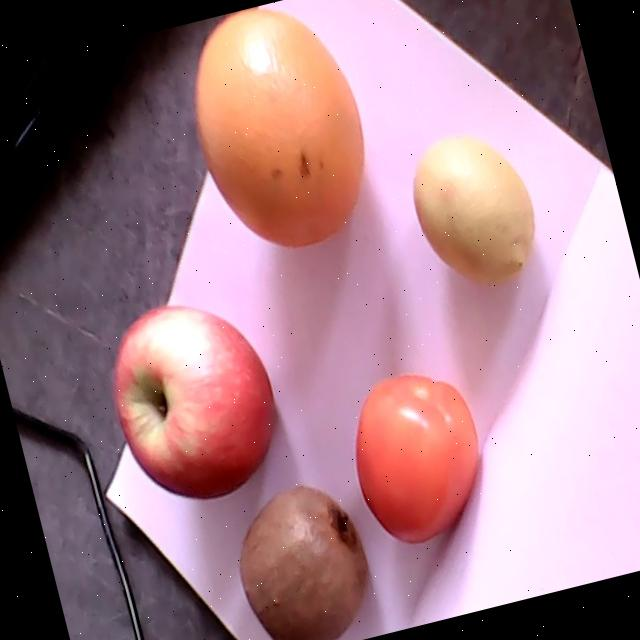apple: (111, 305, 275, 500)
kiwi: (239, 486, 368, 640)
lemon: (413, 139, 533, 284)
orange: (194, 8, 364, 246)
tomato: (354, 373, 478, 543)
